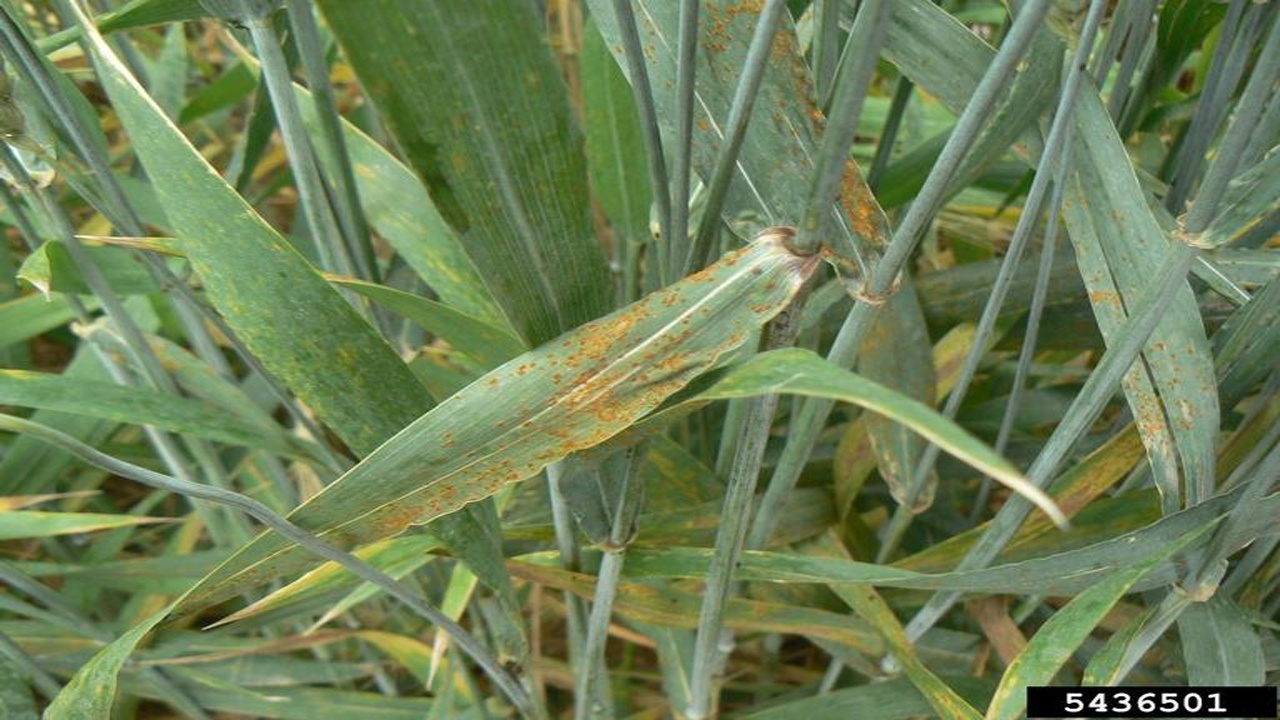leaf_rust: (262, 246, 800, 630), (594, 1, 906, 284), (1080, 161, 1243, 548)
